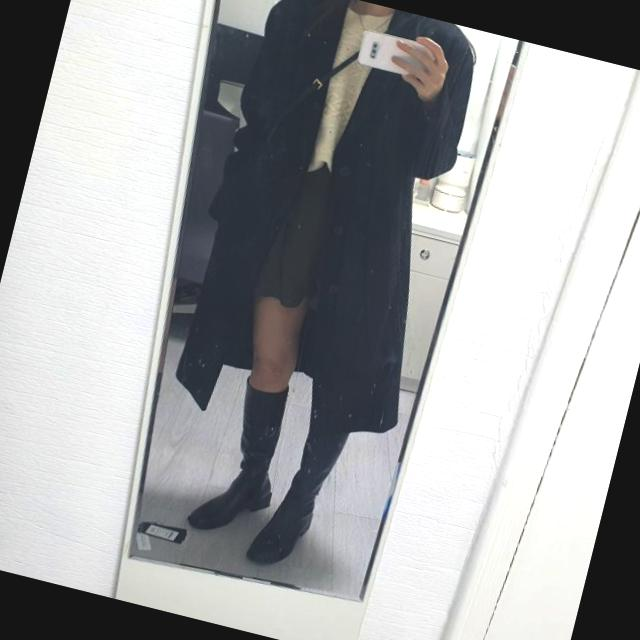coat: (162, 0, 495, 458)
skirt: (248, 146, 346, 314)
